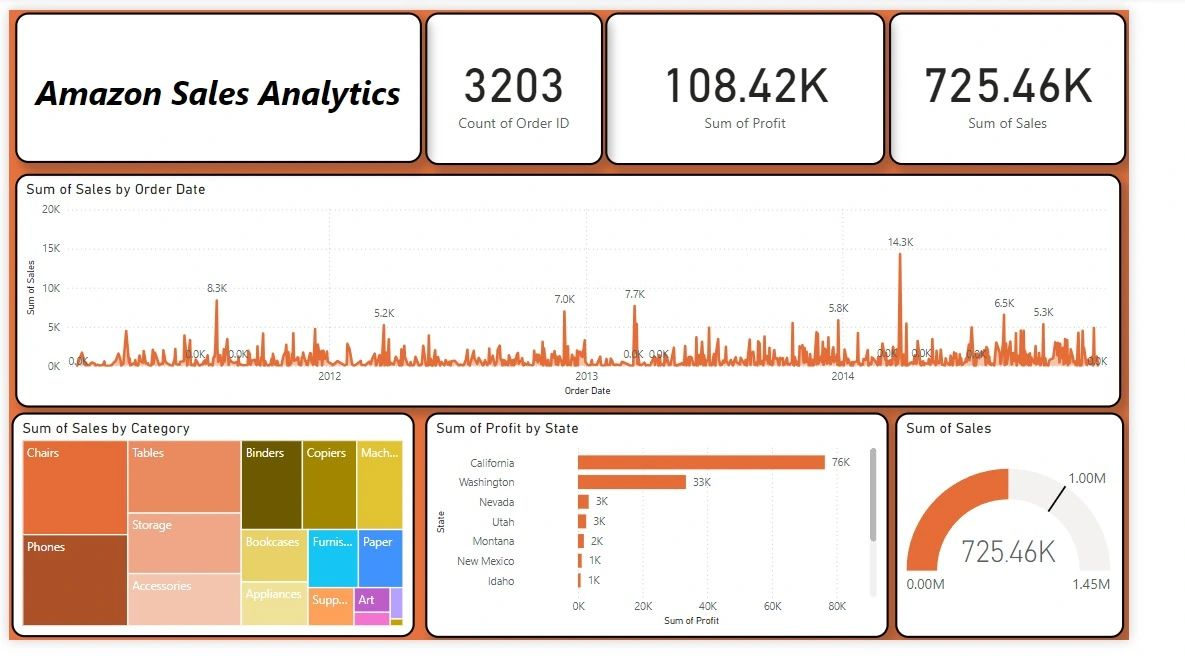

The dashboard page shown, as its layout file describes it:
{"tool":"powerbi","page":{"name":"Page 1","canvas":[1280,720],"ordinal":0},"visuals":[{"type":"card","fields":{"Values":["Sum(Walmart.Sales)"]},"box":[1005.7,2.9,271.4,174.3],"z":0},{"type":"card","fields":{"Values":["Sum(Walmart.Profit)"]},"box":[681.4,2.9,320,174.3],"z":1000},{"type":"card","fields":{"Values":["CountNonNull(Walmart.Order ID)"]},"box":[475.7,2.9,202.9,174.3],"z":2000},{"type":"areaChart","fields":{"Category":["Walmart.Order Date"],"Y":["Sum(Walmart.Sales)"]},"box":[7.5,186.9,1263.8,267.5],"z":3000},{"type":"treemap","fields":{"Group":["Walmart.Category"],"Values":["Sum(Walmart.Sales)"]},"box":[2.9,459.3,460.7,257.1],"z":4000},{"type":"barChart","fields":{"Category":["Walmart.Sate"],"Y":["Sum(Walmart.Profit)"]},"box":[475,459.3,529.3,257.9],"z":5000},{"type":"gauge","fields":{"Y":["Sum(Walmart.Sales)"]},"box":[1012.1,459.3,261.4,257.9],"z":6000},{"type":"textbox","box":[7.3,2.7,464.5,171.8],"z":7000}]}

Visuals, with their boxes in screenshot pixels (x1, y1, x2, y2), scaled from the page's 1280x720 canvas onto the 1185x658 screenshot:
card - Sum(Walmart.Sales): <bbox>931, 3, 1182, 162</bbox>
card - Sum(Walmart.Profit): <bbox>631, 3, 927, 162</bbox>
card - CountNonNull(Walmart.Order ID): <bbox>440, 3, 628, 162</bbox>
areaChart - Walmart.Order Date x Sum(Walmart.Sales): <bbox>7, 171, 1177, 415</bbox>
treemap - Walmart.Category x Sum(Walmart.Sales): <bbox>3, 420, 429, 655</bbox>
barChart - Walmart.Sate x Sum(Walmart.Profit): <bbox>440, 420, 930, 655</bbox>
gauge - Sum(Walmart.Sales): <bbox>937, 420, 1179, 655</bbox>
textbox: <bbox>7, 2, 437, 159</bbox>
